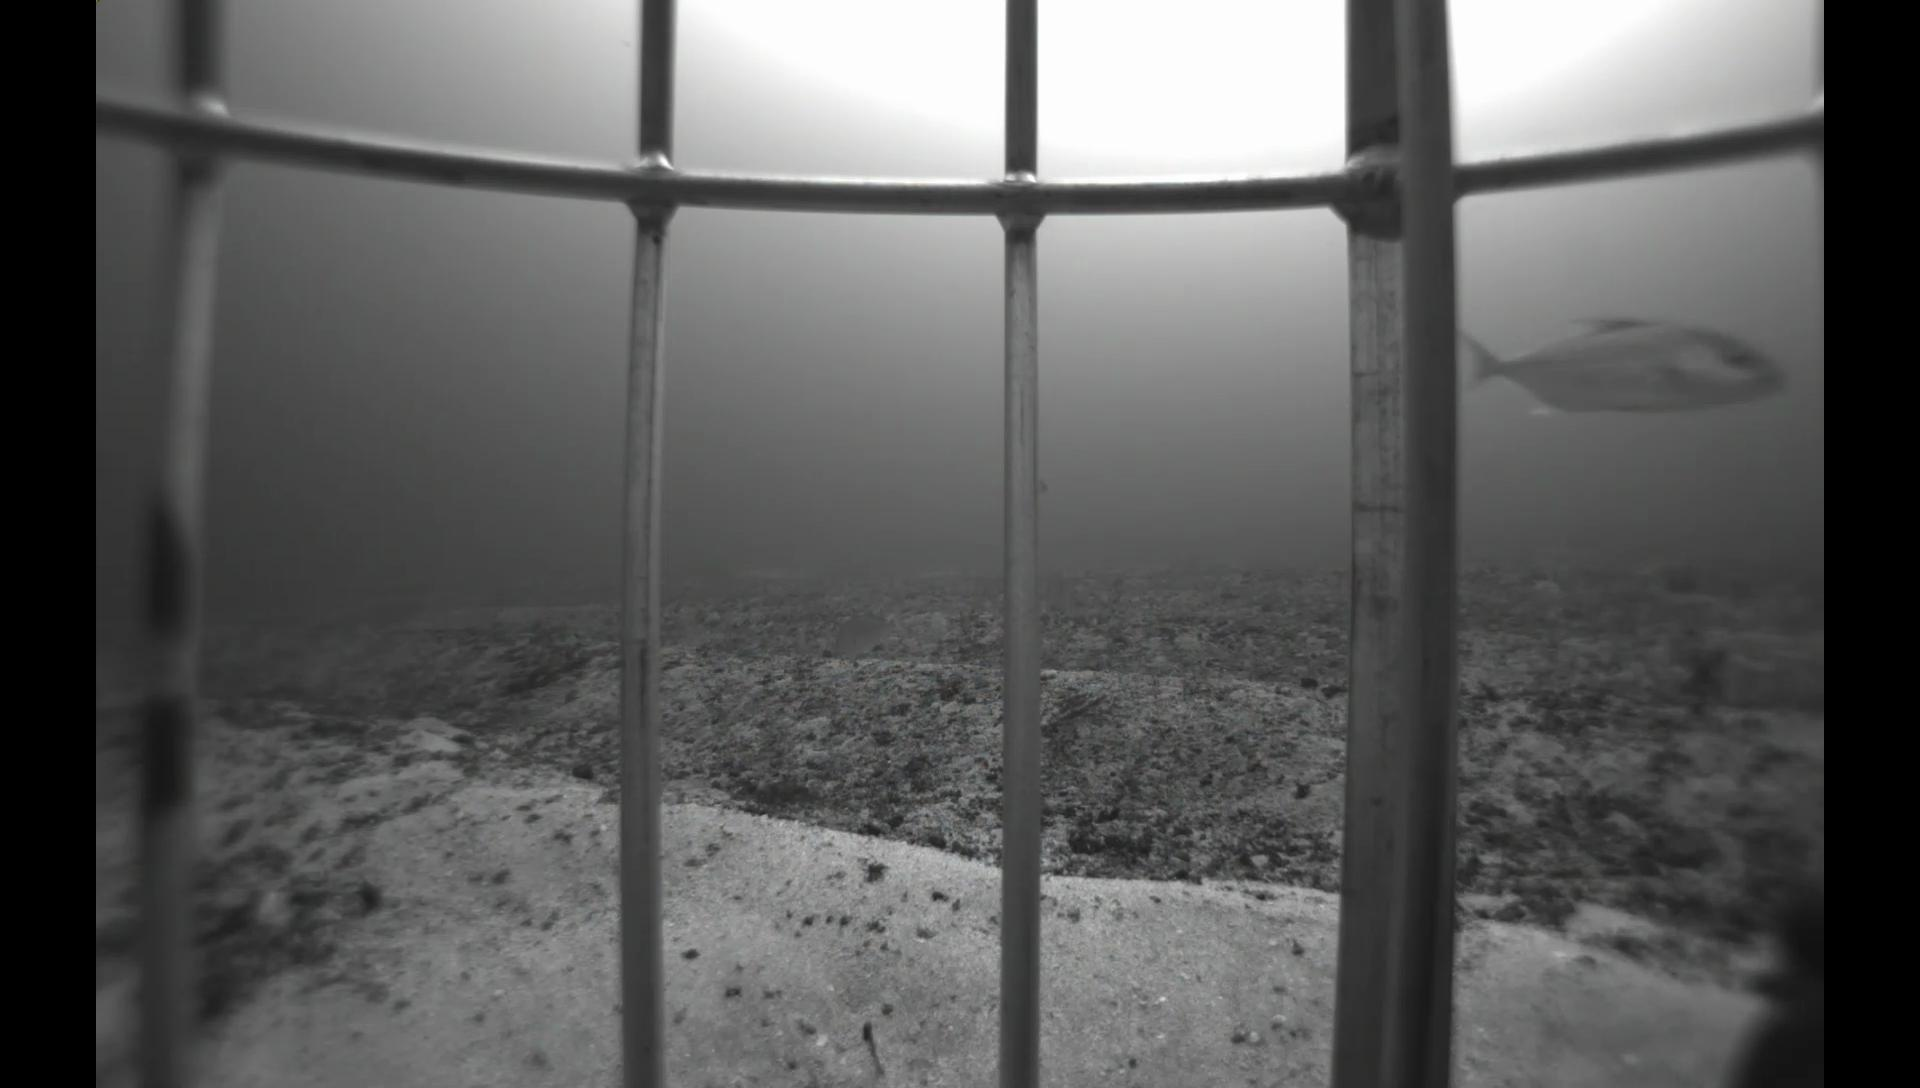CALAMUS-170210600: (829, 604, 906, 659), (1039, 568, 1076, 615)
EPINEPHELUSMORIO-170021211: (1696, 852, 1826, 1085)
RHOMBOPLITESAURORUBENS-170152001: (1038, 477, 1048, 496)
SERIOLARIVOLIANA-170113105: (1458, 299, 1797, 430)
